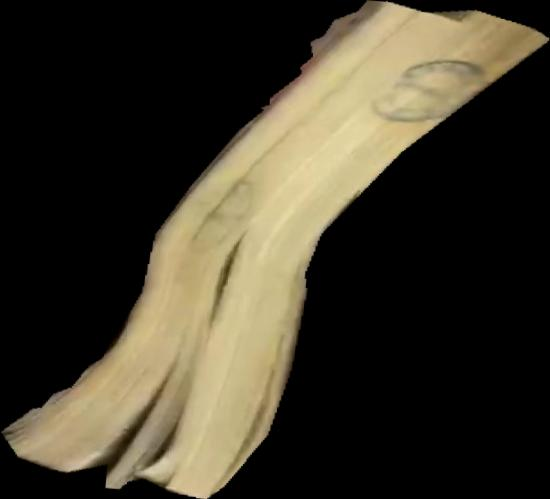backward: (1, 1, 550, 499)
